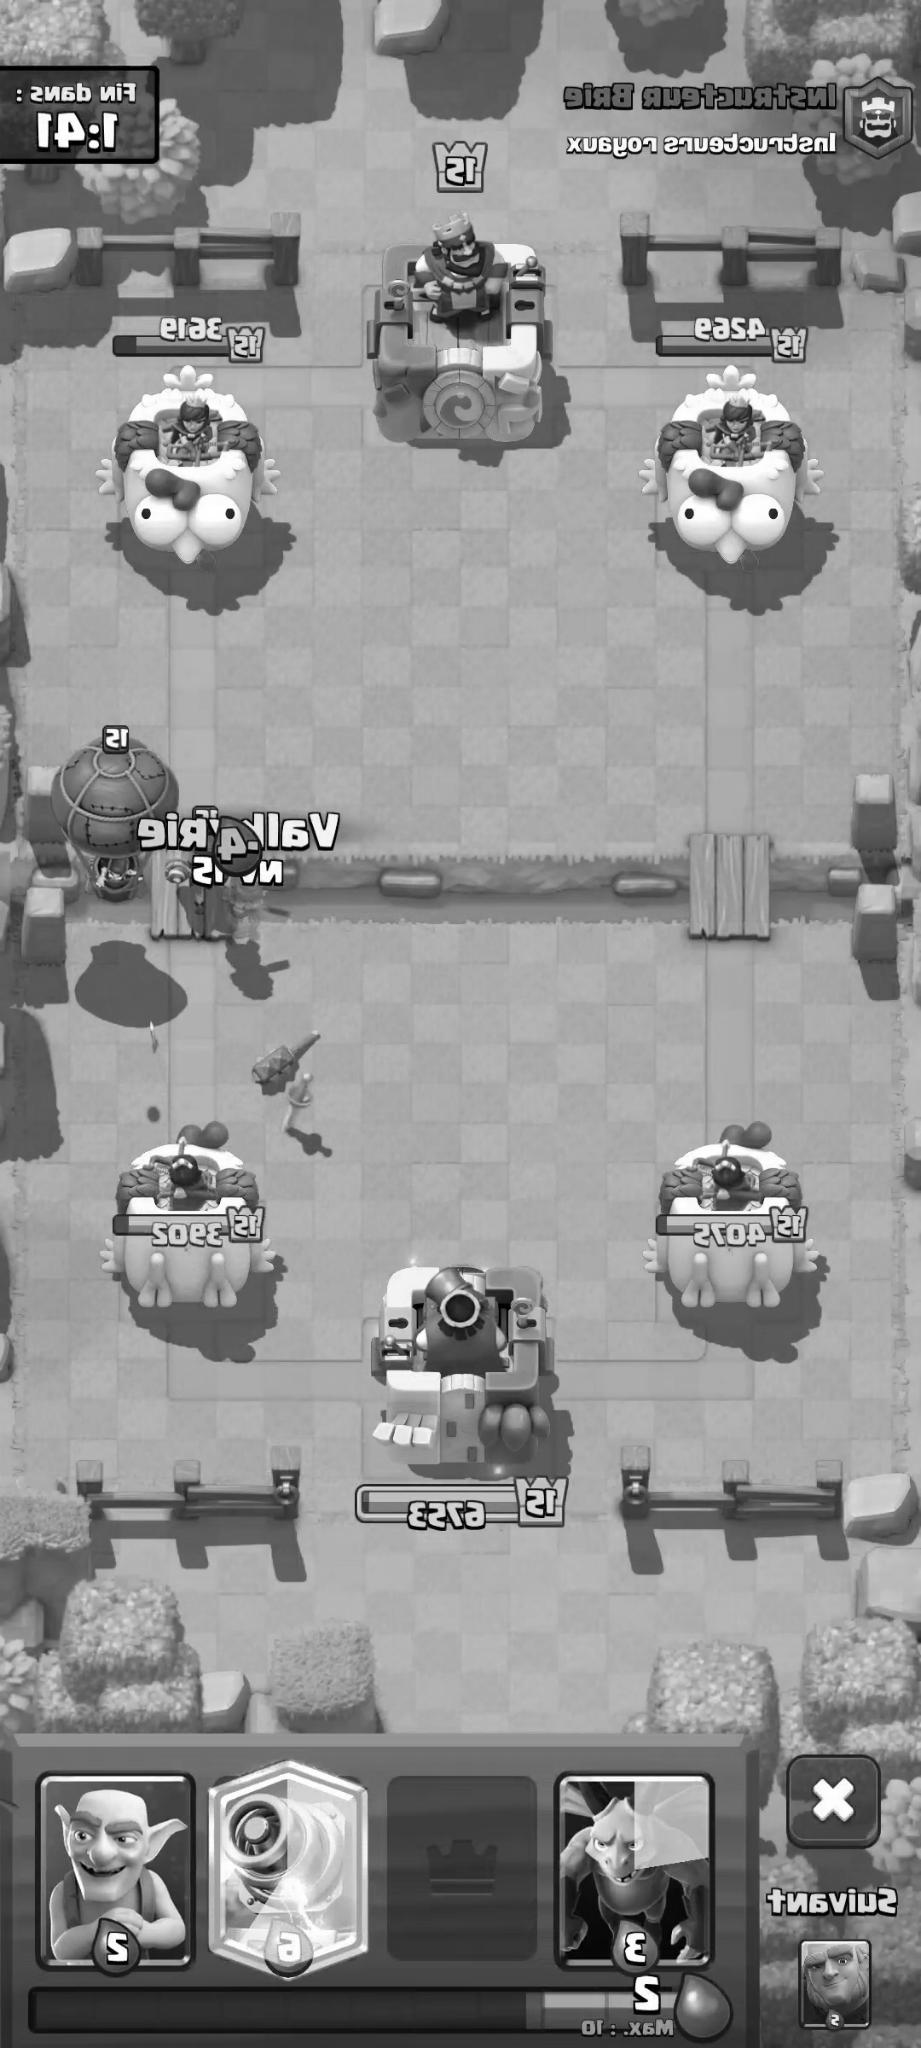valkyrie: (201, 856, 290, 948)
